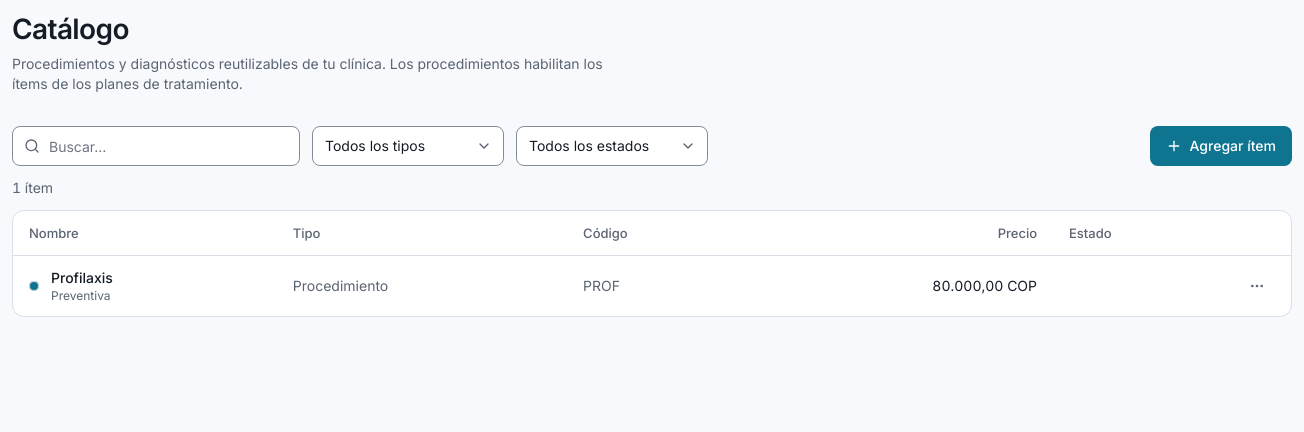
Test: CatalogView › «Desactivar» hace PATCH { active: false } y la fila pasa a ofrecer «Activar»
This screenshot has width=1304, height=432.
Expected: the table named "catálogo" is shown, [13, 211, 1291, 316]
Click the button named "acciones de profilaxis". click: (1257, 286)
box: [1239, 268, 1275, 304]
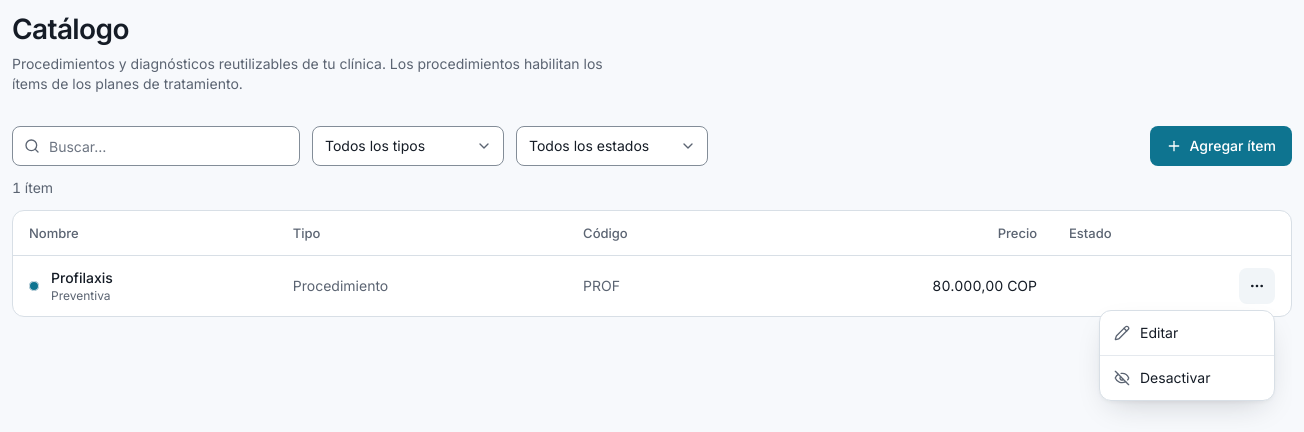
Click the menu item "Desactivar". click: (1162, 378)
box: [1114, 369, 1210, 386]
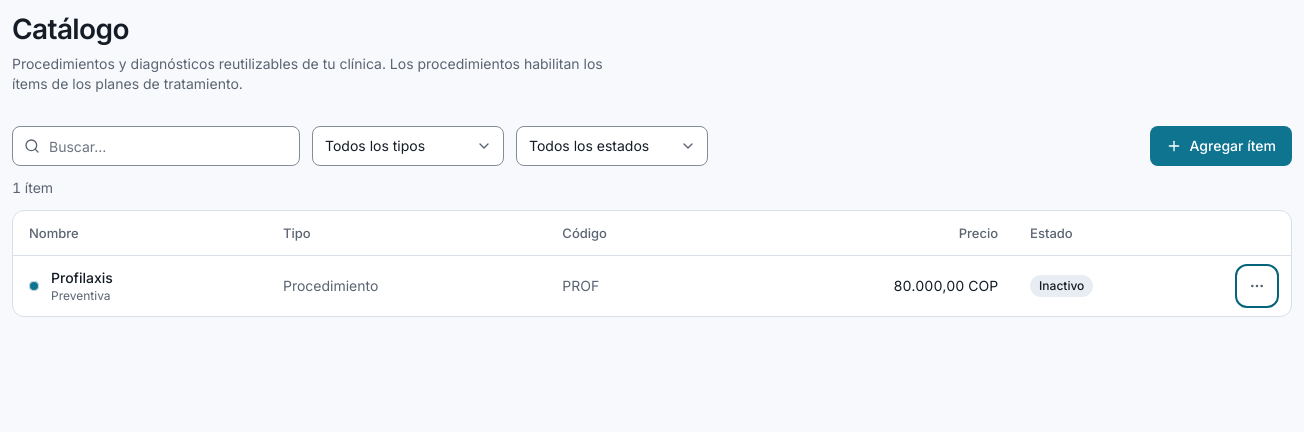
Result: the text "Inactivo" is shown at [1030, 274, 1093, 296]
Click the button named "acciones de profilaxis". click: (1257, 286)
box: [1239, 268, 1275, 304]
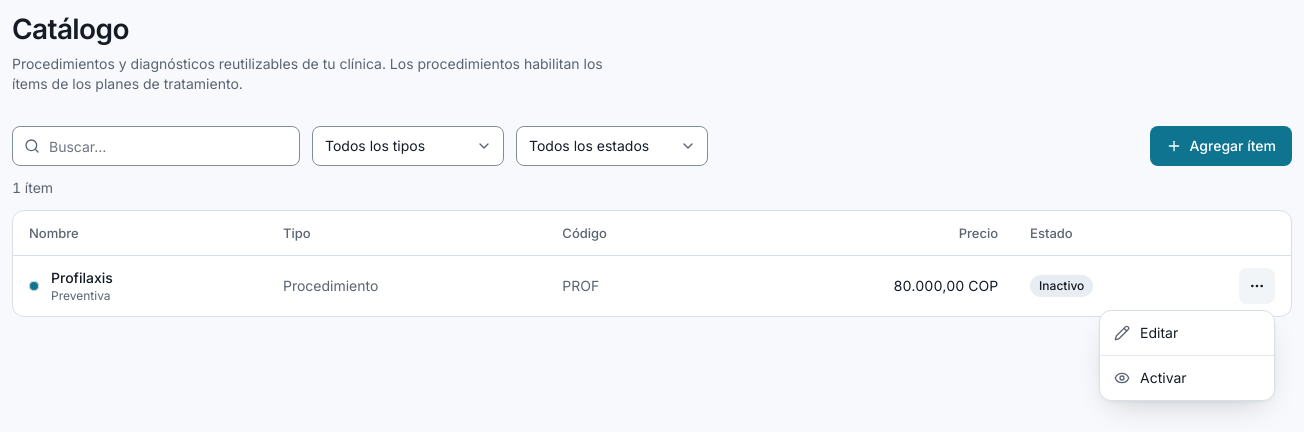
Result: the menu item "Activar" is shown at [1114, 369, 1187, 386]
